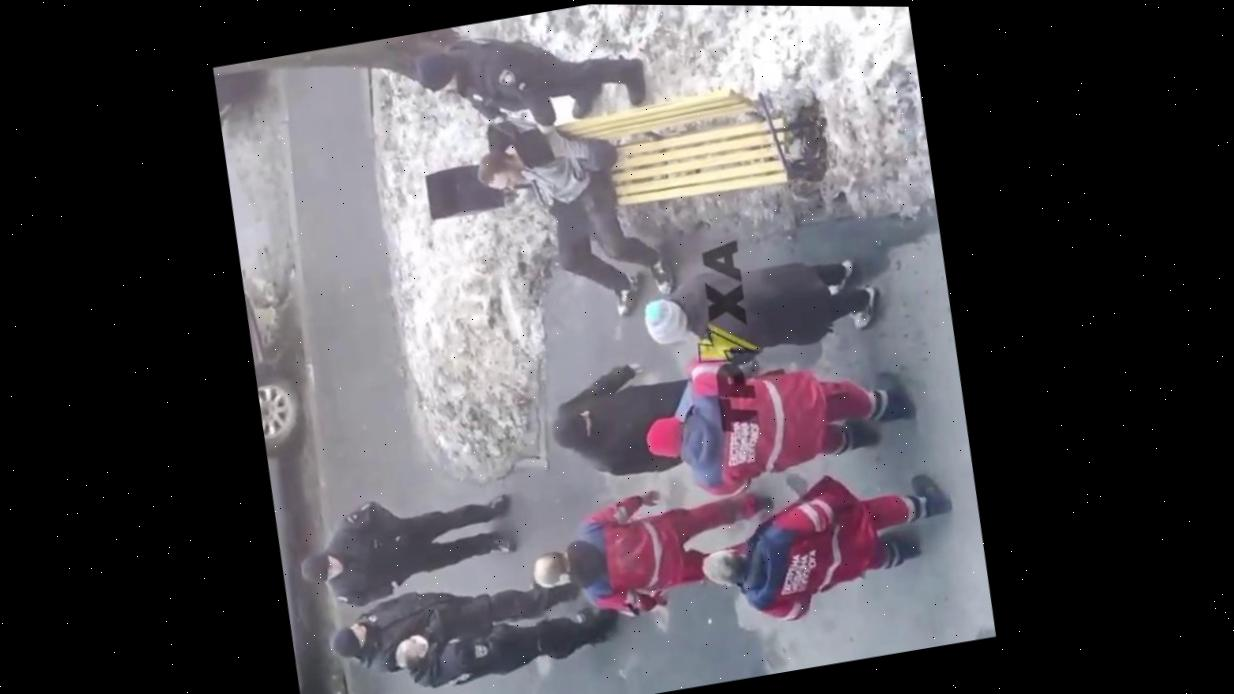person: (629, 317, 930, 511), (460, 92, 684, 337), (685, 450, 969, 635), (519, 466, 789, 633), (407, 8, 653, 148), (293, 474, 528, 614), (323, 560, 585, 682), (387, 593, 625, 694), (538, 350, 697, 490)
